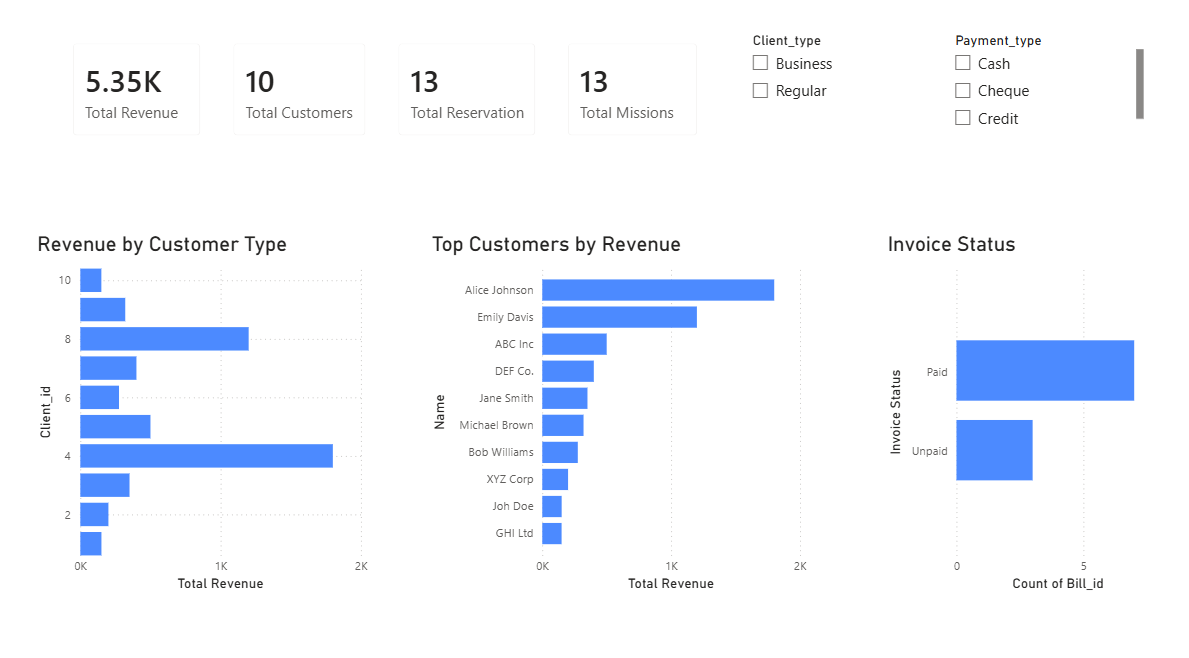

The page's visual inventory and layout, read from the dashboard file:
{"tool":"powerbi","page":{"name":"Executive Overview","canvas":[1280,720],"ordinal":0},"visuals":[{"type":"cardVisual","fields":{"Data":["Bill.Total Revenue"]},"box":[71.1,47.4,168.9,131.1],"z":0},{"type":"cardVisual","fields":{"Data":["Client.Total Customers"]},"box":[240,47.4,173.7,131.1],"z":1000},{"type":"cardVisual","fields":{"Data":["Reservation.Total Reservation"]},"box":[413.7,47.4,178.4,131.1],"z":2000},{"type":"cardVisual","fields":{"Data":["Mission.Total Missions"]},"box":[592.1,47.4,170.5,131.1],"z":3000},{"type":"clusteredBarChart","title":"Revenue by Customer Type","fields":{"Category":["Client.Client_id"],"Y":["Bill.Total Revenue"]},"box":[45.4,263.5,357.4,381.6],"z":4000},{"type":"clusteredBarChart","title":"Top Customers by Revenue","fields":{"Category":["Client.Name"],"Y":["Bill.Total Revenue"]},"box":[460.3,263.5,404.3,381.6],"z":5000},{"type":"clusteredBarChart","title":"Invoice Status","fields":{"Y":["CountNonNull(Bill.Bill_id)"],"Category":["Bill.Invoice Status"]},"box":[941.8,263.5,299.8,381.6],"z":6000},{"type":"slicer","fields":{"Values":["Client.Client_type"]},"box":[791.1,47.4,213.2,90],"z":6001},{"type":"slicer","fields":{"Values":["Bill.Payment_type"]},"box":[1004.2,47.4,216.3,113.7],"z":6002}]}

Visuals, with their boxes in screenshot pixels (x1, y1, x2, y2), scaled from the page's 1280x720 canvas onto the 1189x658 screenshot:
cardVisual - Bill.Total Revenue: {"left": 66, "top": 43, "right": 223, "bottom": 163}
cardVisual - Client.Total Customers: {"left": 223, "top": 43, "right": 384, "bottom": 163}
cardVisual - Reservation.Total Reservation: {"left": 384, "top": 43, "right": 550, "bottom": 163}
cardVisual - Mission.Total Missions: {"left": 550, "top": 43, "right": 708, "bottom": 163}
"Revenue by Customer Type" clusteredBarChart: {"left": 42, "top": 241, "right": 374, "bottom": 590}
"Top Customers by Revenue" clusteredBarChart: {"left": 428, "top": 241, "right": 803, "bottom": 590}
"Invoice Status" clusteredBarChart: {"left": 875, "top": 241, "right": 1153, "bottom": 590}
slicer - Client.Client_type: {"left": 735, "top": 43, "right": 933, "bottom": 126}
slicer - Bill.Payment_type: {"left": 933, "top": 43, "right": 1134, "bottom": 147}
